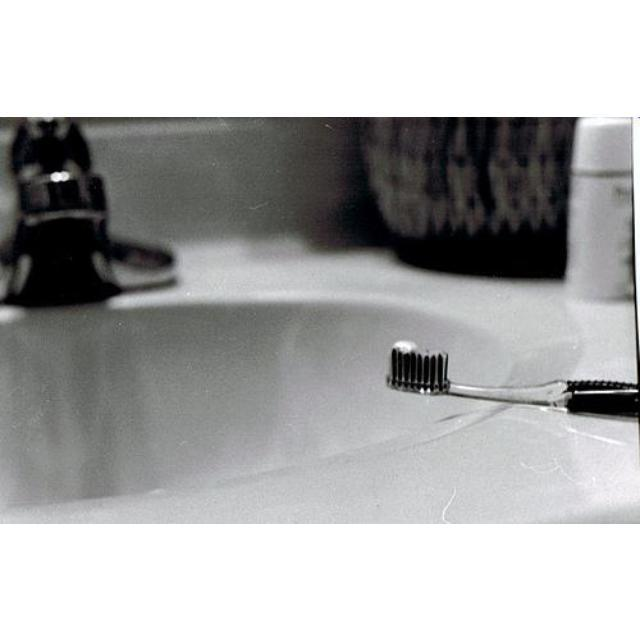toothbrush: (2, 288, 526, 508), (390, 339, 640, 417)
